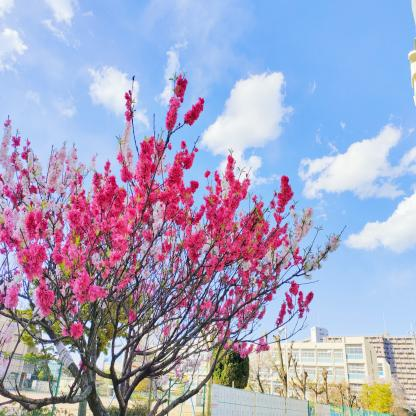Momo: (0, 70, 347, 416)
